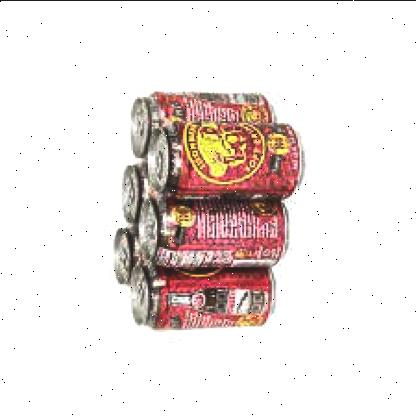Can: (136, 192, 290, 268), (146, 120, 296, 198), (126, 88, 280, 162), (128, 260, 276, 332), (118, 157, 154, 227), (108, 223, 144, 290)
